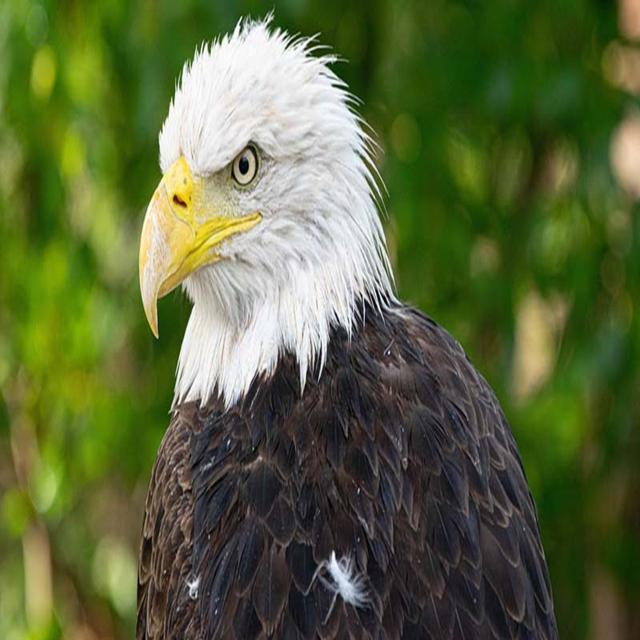Eagle: (135, 16, 557, 640)
